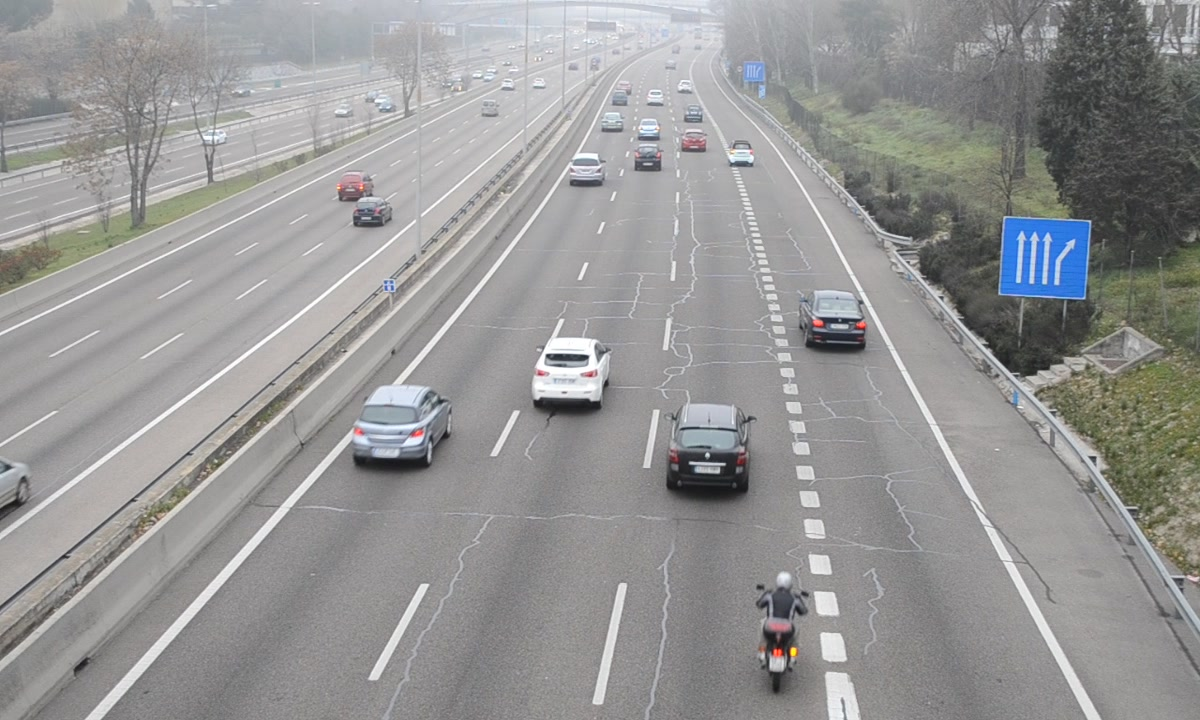car: (348, 383, 448, 465), (667, 401, 748, 493), (530, 337, 613, 406), (800, 290, 868, 351), (569, 153, 607, 187), (726, 138, 755, 168), (635, 143, 663, 170), (681, 129, 709, 154), (637, 118, 662, 142)
motorcycle: (751, 572, 815, 690)
